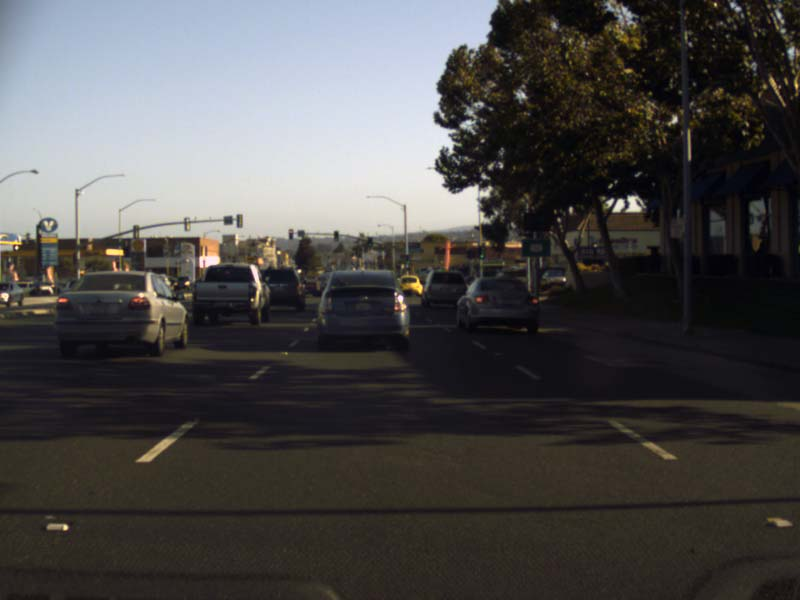Green: (479, 246, 484, 258), (405, 255, 409, 266), (367, 236, 371, 247)
Red: (289, 228, 292, 240)
